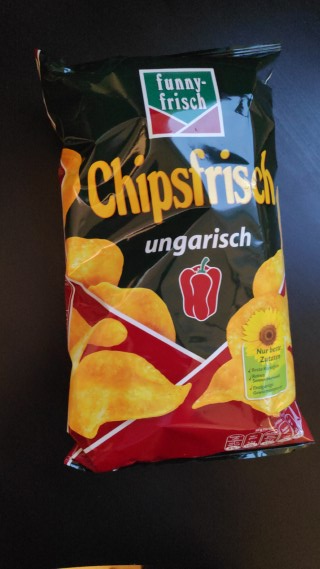chipsfrisch: (28, 39, 316, 476)
